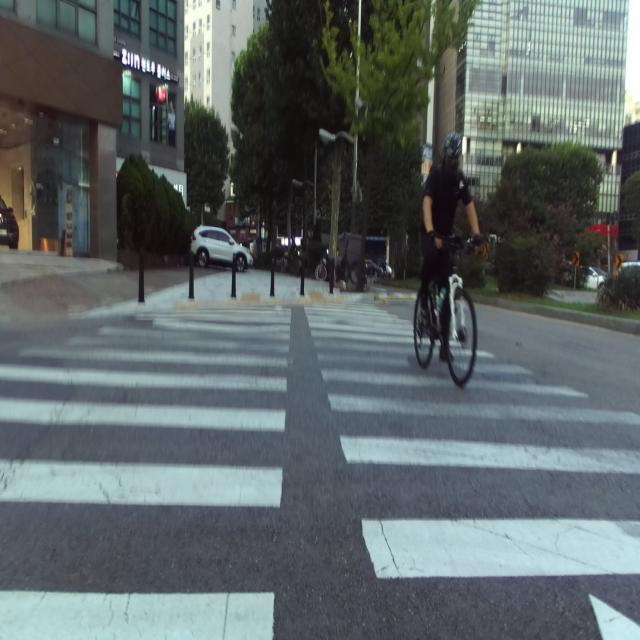횡단보도: (0, 305, 638, 638)
